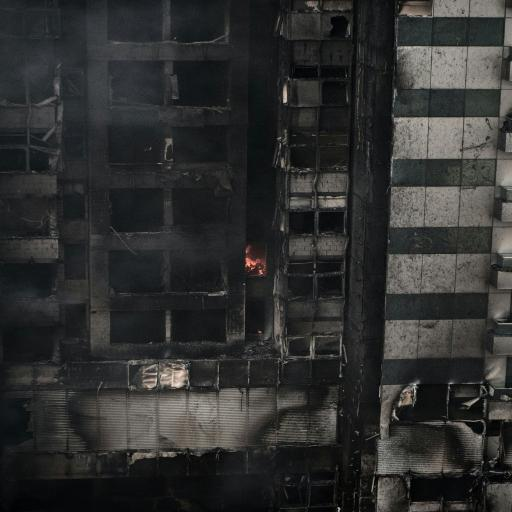buildingfire: (0, 6, 510, 442)
